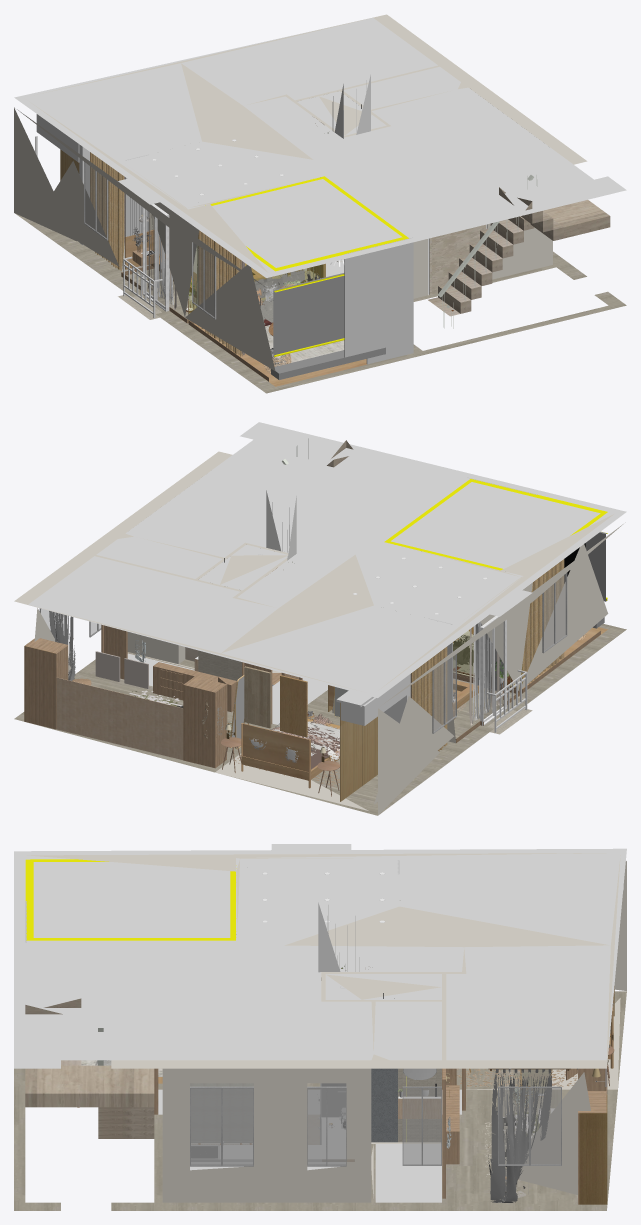
The model's file is burgos-floor-2.glb.
3 renders of one model, top to bottom at view 1: azimuth 30°, elevation 25°; view 2: azimuth 150°, elevation 25°; view 3: azimuth 270°, elevation 25°, orthographic. The views are drawn at different scales.
Visible parts, largest first — view 1: 3DGeom-52, 3DGeom-493, 3DGeom-940, 3DGeom-1677, 3DGeom-13450, 3DGeom-1244, 3DGeom-48, 3DGeom-744, 3DGeom-497, 3DGeom-113, 3DGeom-1708, 3DGeom-1548 (+7 smaller); view 2: 3DGeom-52, 3DGeom-493, 3DGeom-485, 3DGeom-1677, 3DGeom-918, 3DGeom-113, 3DGeom-48, 3DGeom-744, 3DGeom-901, 3DGeom-960, 3DGeom-10, 3DGeom-81 (+13 smaller); view 3: 3DGeom-52, 3DGeom-493, 3DGeom-1677, 3DGeom-744, 3DGeom-13450, 3DGeom-435, 3DGeom-674, 3DGeom-485, 3DGeom-1484, 3DGeom-81, 3DGeom-1683, 3DGeom-1708 (+7 smaller).
Part boxes in pixels (x1,y1,x2,y2): 3DGeom-52: (14, 18, 626, 318); 3DGeom-493: (14, 14, 586, 370); 3DGeom-940: (125, 154, 413, 364); 3DGeom-1677: (15, 213, 626, 393); 3DGeom-13450: (428, 187, 610, 316); 3DGeom-1244: (271, 273, 385, 379); 3DGeom-48: (90, 152, 241, 356); 3DGeom-744: (85, 162, 214, 316); 3DGeom-497: (429, 224, 486, 294); 3DGeom-113: (125, 229, 366, 386); 3DGeom-1708: (205, 176, 408, 356); 3DGeom-1548: (142, 204, 169, 311); 3DGeom-52: (24, 422, 626, 732); 3DGeom-493: (14, 451, 625, 815); 3DGeom-485: (24, 624, 455, 768); 3DGeom-1677: (14, 624, 626, 815); 3DGeom-918: (56, 659, 198, 759); 3DGeom-113: (241, 627, 607, 788); 3DGeom-48: (411, 559, 564, 751); 3DGeom-744: (41, 574, 565, 731); 3DGeom-901: (328, 685, 377, 801); 3DGeom-960: (244, 666, 271, 728); 3DGeom-10: (280, 675, 307, 737); 3DGeom-81: (39, 572, 567, 747); 3DGeom-52: (14, 844, 626, 1202); 3DGeom-493: (27, 853, 626, 1202); 3DGeom-1677: (14, 991, 626, 1210); 3DGeom-744: (190, 1088, 560, 1165); 3DGeom-13450: (25, 998, 154, 1138); 3DGeom-435: (488, 1068, 596, 1202); 3DGeom-674: (190, 1083, 253, 1142); 3DGeom-485: (154, 1066, 607, 1204); 3DGeom-1484: (579, 1095, 607, 1204); 3DGeom-81: (190, 1086, 561, 1166); 3DGeom-1683: (371, 1068, 397, 1142); 3DGeom-1708: (25, 859, 236, 940).
Bounding box in the file's own units: 9.47 × 4.81 × 10.92.
Materials: 305 (193 with a texture image).
